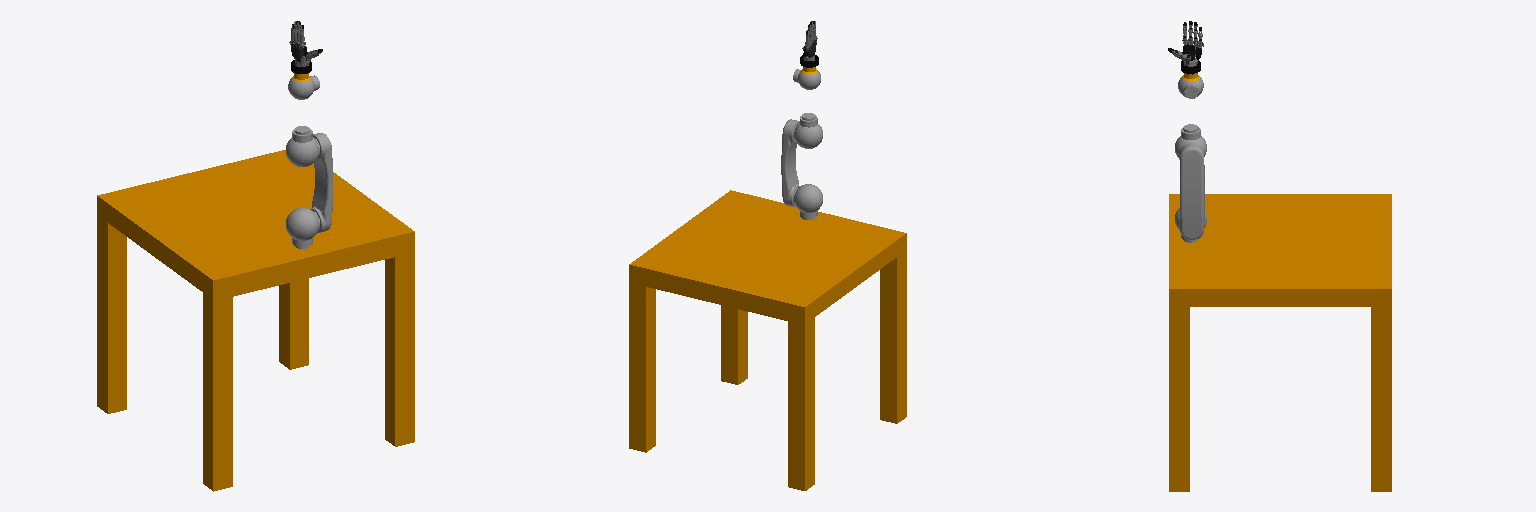
--- Render facts (derived) ---
Views: 3 orthographic renders of the robot side by side, from view 1: azimuth 30°, elevation 25°; view 2: azimuth 150°, elevation 25°; view 3: azimuth 270°, elevation 25°.
Model HoLLiE with 40 links and 39 joints (26 revolute, 12 prismatic, 1 fixed), rooted at base_link, posed every joint at zero.
Links seen in each view (by area): view 1: Table, hollie_real.001, hollie_real.000, hollie_real.002; view 2: Table, hollie_real.001, hollie_real.000, hollie_real.002; view 3: Table, hollie_real.001, hollie_real.002.
Boxes of the visible links, left/top/right/bottom form: Table: left=97, top=150, right=414, bottom=491; hollie_real.001: left=310, top=133, right=332, bottom=232; hollie_real.000: left=286, top=208, right=319, bottom=248; hollie_real.002: left=286, top=126, right=319, bottom=166; Table: left=629, top=190, right=906, bottom=490; hollie_real.001: left=781, top=119, right=800, bottom=206; hollie_real.000: left=793, top=184, right=822, bottom=219; hollie_real.002: left=793, top=113, right=822, bottom=148; Table: left=1169, top=194, right=1391, bottom=491; hollie_real.001: left=1179, top=143, right=1204, bottom=239; hollie_real.002: left=1175, top=124, right=1206, bottom=159.
Bounding box of the posed robot: 1 × 1 × 2.08 m (x, y, z).
29 mesh visuals loaded from 30 distinct referenced files (29 Collada DAE); not drawn: 1 (reference not matched to a file when rendering).

robot.urdf — HoLLiE:
<?xml version="1.0" encoding="utf-8"?>
<robot name="HoLLiE">
  <joint name="hollie_real_base_x_joint" type="fixed">
    <origin rpy="0.0 0.0 0.0" xyz="0.0 0.0 0.0"/>
    <parent link="base_link"/>
    <child link="Table"/>
    <axis xyz="1 0 0"/>
    <calibration falling="0.0" reference_position="0.0" rising="0.0"/>
    <dynamics damping="1.0"/>
    <limit effort="1.0" lower="1.0" upper="1.0" velocity="1.0"/>
  </joint>
  <joint name="hollie_real_left_arm_0_joint" type="prismatic">
    <origin rpy="0.0 0.0 1.623156189918518" xyz="0.0 -0.4000000059604645 1.0"/>
    <parent link="Table"/>
    <child link="hollie_real_left_arm_0_joint_link"/>
    <axis xyz="1 0 0"/>
    <calibration falling="0.0" reference_position="0.0" rising="0.0"/>
    <dynamics damping="1.0"/>
    <limit effort="1.0" lower="0.0" upper="0.0" velocity="1.0"/>
  </joint>
  <joint name="hollie_real_left_arm_1_joint" type="revolute">
    <origin rpy="0.0 0.0 0.0" xyz="0.0 0.0 0.10999999940395355"/>
    <parent link="hollie_real_left_arm_0_joint_link"/>
    <child link="hollie_real.000"/>
    <axis xyz="0 0 1"/>
    <calibration falling="0.0" reference_position="0.0" rising="0.0"/>
    <dynamics damping="1.0"/>
    <limit effort="1.0" lower="-1.3725518549658003e+20" upper="1.3725518549658003e+20" velocity="1.0"/>
  </joint>
  <joint name="hollie_real_left_arm_2_joint" type="revolute">
    <origin rpy="1.5707963705062866 0.0 0.0" xyz="0.0 0.0 0.0"/>
    <parent link="hollie_real.000"/>
    <child link="hollie_real.001"/>
    <axis xyz="0 0 1"/>
    <calibration falling="0.0" reference_position="0.0" rising="0.0"/>
    <dynamics damping="1.0"/>
    <limit effort="1.0" lower="-2864.7890625" upper="2864.7890625" velocity="1.0"/>
  </joint>
  <joint name="hollie_real_left_arm_3_joint" type="revolute">
    <origin rpy="0.0 -3.141592502593994 -0.0" xyz="0.0 0.3499999940395355 0.0"/>
    <parent link="hollie_real.001"/>
    <child link="hollie_real.002"/>
    <axis xyz="0 0 1"/>
    <calibration falling="0.0" reference_position="0.0" rising="0.0"/>
    <dynamics damping="1.0"/>
    <limit effort="1.0" lower="-1.3674871525645432e+20" upper="1.3674871525645432e+20" velocity="1.0"/>
  </joint>
  <joint name="hollie_real_left_arm_4_joint" type="revolute">
    <origin rpy="1.5707963705062866 0.0 3.141592502593994" xyz="0.0 0.0 0.0"/>
    <parent link="hollie_real.002"/>
    <child link="hollie_real.003"/>
    <axis xyz="0 0 1"/>
    <calibration falling="0.0" reference_position="0.0" rising="0.0"/>
    <dynamics damping="1.0"/>
    <limit effort="1.0" lower="-4.5218827465218064e+19" upper="4.5218827465218064e+19" velocity="1.0"/>
  </joint>
  <joint name="hollie_real_left_arm_5_joint" type="revolute">
    <origin rpy="1.5707963705062866 0.0 -3.141592502593994" xyz="0.0 0.0052629997953772545 0.3050000071525574"/>
    <parent link="hollie_real.003"/>
    <child link="hollie_real.004"/>
    <axis xyz="0 0 1"/>
    <calibration falling="0.0" reference_position="0.0" rising="0.0"/>
    <dynamics damping="1.0"/>
    <limit effort="1.0" lower="-1.3674871525645432e+20" upper="1.3674871525645432e+20" velocity="1.0"/>
  </joint>
  <joint name="hollie_real_left_arm_6_joint" type="revolute">
    <origin rpy="-1.5707963705062866 0.0 0.0" xyz="0.0 0.0 0.0"/>
    <parent link="hollie_real.004"/>
    <child link="hollie_real.005"/>
    <axis xyz="0 0 1"/>
    <calibration falling="0.0" reference_position="0.0" rising="0.0"/>
    <dynamics damping="1.0"/>
    <limit effort="1.0" lower="-4.5218827465218064e+19" upper="4.5218827465218064e+19" velocity="1.0"/>
  </joint>
  <joint name="hollie_real_left_hand_base_joint" type="prismatic">
    <origin rpy="0.0 0.0 0.0" xyz="0.0 0.0 0.10000000149011612"/>
    <parent link="hollie_real.005"/>
    <child link="hollie_real.006"/>
    <axis xyz="1 0 0"/>
    <calibration falling="0.0" reference_position="0.0" rising="0.0"/>
    <dynamics damping="1.0"/>
    <limit effort="1.0" lower="0.0" upper="0.0" velocity="1.0"/>
  </joint>
  <joint name="hollie_real_left_hand_f4" type="prismatic">
    <origin rpy="0.0 0.0 0.0" xyz="0.0 -0.013129999861121178 0.0"/>
    <parent link="hollie_real.006"/>
    <child link="hollie_real.007"/>
    <axis xyz="1 0 0"/>
    <calibration falling="0.0" reference_position="0.0" rising="0.0"/>
    <dynamics damping="1.0"/>
    <limit effort="1.0" lower="0.0" upper="0.0" velocity="1.0"/>
  </joint>
  <joint name="hollie_real_left_hand_Thumb_Opposition" type="revolute">
    <origin rpy="0.0 0.2617993950843811 1.5707963705062866" xyz="0.016899999231100082 0.026259999722242355 0.0"/>
    <parent link="hollie_real.007"/>
    <child link="hollie_real.008"/>
    <axis xyz="0 0 1"/>
    <calibration falling="0.0" reference_position="0.0" rising="0.0"/>
    <dynamics damping="1.0"/>
    <limit effort="1.0" lower="0.0" upper="2.158052153766183e+19" velocity="1.0"/>
  </joint>
  <joint name="hollie_real_left_hand_Thumb_Helper" type="prismatic">
    <origin rpy="-3.141592502593994 -1.570796251296997 0.0" xyz="0.0 0.0 0.04596000164747238"/>
    <parent link="hollie_real.008"/>
    <child link="hollie_real_left_hand_Thumb_Helper_link"/>
    <axis xyz="1 0 0"/>
    <calibration falling="0.0" reference_position="0.0" rising="0.0"/>
    <dynamics damping="1.0"/>
    <limit effort="1.0" lower="0.0" upper="0.0" velocity="1.0"/>
  </joint>
  <joint name="hollie_real_left_hand_Thumb_Flexion" type="revolute">
    <origin rpy="0.0 0.0 0.9773843884468079" xyz="0.0 0.0 0.0"/>
    <parent link="hollie_real_left_hand_Thumb_Helper_link"/>
    <child link="hollie_real.009"/>
    <axis xyz="0 0 1"/>
    <calibration falling="0.0" reference_position="0.0" rising="0.0"/>
    <dynamics damping="1.0"/>
    <limit effort="1.0" lower="0.0" upper="2.1198236737846903e+19" velocity="1.0"/>
  </joint>
  <joint name="hollie_real_left_hand_j3" type="revolute">
    <origin rpy="0.0 0.0 0.0" xyz="0.048500001430511475 0.0 0.0"/>
    <parent link="hollie_real.009"/>
    <child link="hollie_real.010"/>
    <axis xyz="0 0 1"/>
    <calibration falling="0.0" reference_position="0.0" rising="0.0"/>
    <dynamics damping="1.0"/>
    <limit effort="1.0" lower="0.0" upper="2.151848049455294e+19" velocity="1.0"/>
  </joint>
  <joint name="hollie_real_left_hand_j4" type="revolute">
    <origin rpy="0.0 0.0 0.0" xyz="0.029999999329447746 0.0 0.0"/>
    <parent link="hollie_real.010"/>
    <child link="hollie_real.011"/>
    <axis xyz="0 0 1"/>
    <calibration falling="0.0" reference_position="0.0" rising="0.0"/>
    <dynamics damping="1.0"/>
    <limit effort="1.0" lower="0.0" upper="3.0713850169271517e+19" velocity="1.0"/>
  </joint>
  <joint name="hollie_real_left_hand_f1" type="prismatic">
    <origin rpy="0.0 0.0 0.0" xyz="0.0 0.0 0.0"/>
    <parent link="hollie_real.007"/>
    <child link="hollie_real_left_hand_f1_link"/>
    <axis xyz="1 0 0"/>
    <calibration falling="0.0" reference_position="0.0" rising="0.0"/>
    <dynamics damping="1.0"/>
    <limit effort="1.0" lower="0.0" upper="0.0" velocity="1.0"/>
  </joint>
  <joint name="hollie_real_left_hand_f2" type="prismatic">
    <origin rpy="0.0 0.0 0.0" xyz="0.0 0.0 0.0"/>
    <parent link="hollie_real_left_hand_f1_link"/>
    <child link="hollie_real_left_hand_f2_link"/>
    <axis xyz="1 0 0"/>
    <calibration falling="0.0" reference_position="0.0" rising="0.0"/>
    <dynamics damping="1.0"/>
    <limit effort="1.0" lower="0.0" upper="0.0" velocity="1.0"/>
  </joint>
  <joint name="hollie_real_left_hand_f3" type="prismatic">
    <origin rpy="0.0 0.0 0.0" xyz="0.0 0.0 0.0"/>
    <parent link="hollie_real_left_hand_f2_link"/>
    <child link="hollie_real_left_hand_f3_link"/>
    <axis xyz="1 0 0"/>
    <calibration falling="0.0" reference_position="0.0" rising="0.0"/>
    <dynamics damping="1.0"/>
    <limit effort="1.0" lower="0.0" upper="0.0" velocity="1.0"/>
  </joint>
  <joint name="hollie_real_left_hand_index_spread" type="revolute">
    <origin rpy="1.5707963705062866 -1.570796251296997 0.0" xyz="0.02500000037252903 0.0 0.10999999940395355"/>
    <parent link="hollie_real_left_hand_f3_link"/>
    <child link="hollie_real.012"/>
    <axis xyz="0 0 1"/>
    <calibration falling="0.0" reference_position="0.0" rising="0.0"/>
    <dynamics damping="1.0"/>
    <limit effort="1.0" lower="0.0" upper="6.29852322265668e+18" velocity="1.0"/>
  </joint>
  <joint name="hollie_real_left_hand_Index_Finger_Proximal" type="revolute">
    <origin rpy="-1.5707963705062866 0.0 0.0" xyz="0.0 0.0 0.0"/>
    <parent link="hollie_real.012"/>
    <child link="hollie_real.013"/>
    <axis xyz="0 0 1"/>
    <calibration falling="0.0" reference_position="0.0" rising="0.0"/>
    <dynamics damping="1.0"/>
    <limit effort="1.0" lower="0.0" upper="1.744289215657332e+19" velocity="1.0"/>
  </joint>
  <joint name="hollie_real_left_hand_Index_Finger_Distal" type="revolute">
    <origin rpy="0.0 0.0 0.0" xyz="0.0480399988591671 0.0 0.0"/>
    <parent link="hollie_real.013"/>
    <child link="hollie_real.014"/>
    <axis xyz="0 0 1"/>
    <calibration falling="0.0" reference_position="0.0" rising="0.0"/>
    <dynamics damping="1.0"/>
    <limit effort="1.0" lower="0.0" upper="2.914102297499376e+19" velocity="1.0"/>
  </joint>
  <joint name="hollie_real_left_hand_j14" type="revolute">
    <origin rpy="0.0 0.0 0.0" xyz="0.026000000536441803 0.0 0.0"/>
    <parent link="hollie_real.014"/>
    <child link="hollie_real.015"/>
    <axis xyz="0 0 1"/>
    <calibration falling="0.0" reference_position="0.0" rising="0.0"/>
    <dynamics damping="1.0"/>
    <limit effort="1.0" lower="0.0" upper="3.0451713403070185e+19" velocity="1.0"/>
  </joint>
  <joint name="hollie_real_left_hand_middle_spread_dummy" type="prismatic">
    <origin rpy="1.5707963705062866 -1.570796251296997 0.0" xyz="0.0 0.0 0.10999999940395355"/>
    <parent link="hollie_real_left_hand_f1_link"/>
    <child link="hollie_real.016"/>
    <axis xyz="1 0 0"/>
    <calibration falling="0.0" reference_position="0.0" rising="0.0"/>
    <dynamics damping="1.0"/>
    <limit effort="1.0" lower="0.0" upper="0.0" velocity="1.0"/>
  </joint>
  <joint name="hollie_real_left_hand_Middle_Finger_Proximal" type="revolute">
    <origin rpy="-1.5707963705062866 0.0 0.0" xyz="0.0 0.0 0.0"/>
    <parent link="hollie_real.016"/>
    <child link="hollie_real.017"/>
    <axis xyz="0 0 1"/>
    <calibration falling="0.0" reference_position="0.0" rising="0.0"/>
    <dynamics damping="1.0"/>
    <limit effort="1.0" lower="0.0" upper="1.744289215657332e+19" velocity="1.0"/>
  </joint>
  <joint name="hollie_real_left_hand_Middle_Finger_Distal" type="revolute">
    <origin rpy="0.0 0.0 0.0" xyz="0.050039999186992645 0.0 0.0"/>
    <parent link="hollie_real.017"/>
    <child link="hollie_real.018"/>
    <axis xyz="0 0 1"/>
    <calibration falling="0.0" reference_position="0.0" rising="0.0"/>
    <dynamics damping="1.0"/>
    <limit effort="1.0" lower="0.0" upper="2.914102297499376e+19" velocity="1.0"/>
  </joint>
  <joint name="hollie_real_left_hand_j15" type="revolute">
    <origin rpy="0.0 0.0 0.0" xyz="0.03200000151991844 0.0 0.0"/>
    <parent link="hollie_real.018"/>
    <child link="hollie_real.019"/>
    <axis xyz="0 0 1"/>
    <calibration falling="0.0" reference_position="0.0" rising="0.0"/>
    <dynamics damping="1.0"/>
    <limit effort="1.0" lower="0.0" upper="2.914102297499376e+19" velocity="1.0"/>
  </joint>
  <joint name="hollie_real_left_hand_j5" type="revolute">
    <origin rpy="0.0 0.0 0.0" xyz="-0.018400000408291817 0.006000000052154064 0.03750000149011612"/>
    <parent link="hollie_real.007"/>
    <child link="hollie_real.020"/>
    <axis xyz="0 0 1"/>
    <calibration falling="0.0" reference_position="0.0" rising="0.0"/>
    <dynamics damping="1.0"/>
    <limit effort="1.0" lower="0.0" upper="2.157964632640612e+19" velocity="1.0"/>
  </joint>
  <joint name="hollie_real_left_hand_f5" type="prismatic">
    <origin rpy="0.0 0.0 0.0" xyz="0.0 -0.006000000052154064 0.0"/>
    <parent link="hollie_real.020"/>
    <child link="hollie_real_left_hand_f5_link"/>
    <axis xyz="1 0 0"/>
    <calibration falling="0.0" reference_position="0.0" rising="0.0"/>
    <dynamics damping="1.0"/>
    <limit effort="1.0" lower="0.0" upper="0.0" velocity="1.0"/>
  </joint>
  <joint name="hollie_real_left_hand_f6" type="prismatic">
    <origin rpy="0.0 0.0 0.0" xyz="0.0 0.0 0.0"/>
    <parent link="hollie_real_left_hand_f5_link"/>
    <child link="hollie_real_left_hand_f6_link"/>
    <axis xyz="1 0 0"/>
    <calibration falling="0.0" reference_position="0.0" rising="0.0"/>
    <dynamics damping="1.0"/>
    <limit effort="1.0" lower="0.0" upper="0.0" velocity="1.0"/>
  </joint>
  <joint name="hollie_real_left_hand_f7" type="prismatic">
    <origin rpy="0.0 0.0 0.0" xyz="0.0 0.0 0.0"/>
    <parent link="hollie_real_left_hand_f6_link"/>
    <child link="hollie_real_left_hand_f7_link"/>
    <axis xyz="1 0 0"/>
    <calibration falling="0.0" reference_position="0.0" rising="0.0"/>
    <dynamics damping="1.0"/>
    <limit effort="1.0" lower="0.0" upper="0.0" velocity="1.0"/>
  </joint>
  <joint name="hollie_real_left_hand_Finger_Spread" type="revolute">
    <origin rpy="-1.5707963705062866 -1.570796251296997 0.0" xyz="-0.02535500004887581 0.0 0.0560000017285347"/>
    <parent link="hollie_real_left_hand_f7_link"/>
    <child link="hollie_real.021"/>
    <axis xyz="0 0 1"/>
    <calibration falling="0.0" reference_position="0.0" rising="0.0"/>
    <dynamics damping="1.0"/>
    <limit effort="1.0" lower="0.0" upper="1.2733359498878517e+19" velocity="1.0"/>
  </joint>
  <joint name="hollie_real_left_hand_Pinky" type="revolute">
    <origin rpy="1.5707963705062866 0.0 0.0" xyz="0.0 0.0 0.0"/>
    <parent link="hollie_real.021"/>
    <child link="hollie_real.022"/>
    <axis xyz="0 0 1"/>
    <calibration falling="0.0" reference_position="0.0" rising="0.0"/>
    <dynamics damping="1.0"/>
    <limit effort="1.0" lower="0.0" upper="2.144617660991039e+19" velocity="1.0"/>
  </joint>
  <joint name="hollie_real_left_hand_j13" type="revolute">
    <origin rpy="0.0 0.0 0.0" xyz="0.04453999921679497 0.0 0.0"/>
    <parent link="hollie_real.022"/>
    <child link="hollie_real.023"/>
    <axis xyz="0 0 1"/>
    <calibration falling="0.0" reference_position="0.0" rising="0.0"/>
    <dynamics damping="1.0"/>
    <limit effort="1.0" lower="0.0" upper="2.914102297499376e+19" velocity="1.0"/>
  </joint>
  <joint name="hollie_real_left_hand_j17" type="revolute">
    <origin rpy="0.0 0.0 0.0" xyz="0.02199999988079071 0.0 0.0"/>
    <parent link="hollie_real.023"/>
    <child link="hollie_real.024"/>
    <axis xyz="0 0 1"/>
    <calibration falling="0.0" reference_position="0.0" rising="0.0"/>
    <dynamics damping="1.0"/>
    <limit effort="1.0" lower="0.0" upper="3.0519430125201654e+19" velocity="1.0"/>
  </joint>
  <joint name="hollie_real_left_hand_f8" type="prismatic">
    <origin rpy="0.0 0.0 0.0" xyz="0.0 0.0 0.0"/>
    <parent link="hollie_real_left_hand_f6_link"/>
    <child link="hollie_real_left_hand_f8_link"/>
    <axis xyz="1 0 0"/>
    <calibration falling="0.0" reference_position="0.0" rising="0.0"/>
    <dynamics damping="1.0"/>
    <limit effort="1.0" lower="0.0" upper="0.0" velocity="1.0"/>
  </joint>
  <joint name="hollie_real_left_hand_ring_spread" type="revolute">
    <origin rpy="-1.5707963705062866 -1.570796251296997 0.0" xyz="-0.003855000017210841 0.0 0.06549999862909317"/>
    <parent link="hollie_real_left_hand_f8_link"/>
    <child link="hollie_real.025"/>
    <axis xyz="0 0 1"/>
    <calibration falling="0.0" reference_position="0.0" rising="0.0"/>
    <dynamics damping="1.0"/>
    <limit effort="1.0" lower="0.0" upper="6.29852322265668e+18" velocity="1.0"/>
  </joint>
  <joint name="hollie_real_left_hand_Ring_Finger" type="revolute">
    <origin rpy="1.5707963705062866 0.0 0.0" xyz="0.0 0.0 0.0"/>
    <parent link="hollie_real.025"/>
    <child link="hollie_real.026"/>
    <axis xyz="0 0 1"/>
    <calibration falling="0.0" reference_position="0.0" rising="0.0"/>
    <dynamics damping="1.0"/>
    <limit effort="1.0" lower="0.0" upper="2.144617660991039e+19" velocity="1.0"/>
  </joint>
  <joint name="hollie_real_left_hand_j12" type="revolute">
    <origin rpy="0.0 0.0 0.0" xyz="0.050039999186992645 0.0 0.0"/>
    <parent link="hollie_real.026"/>
    <child link="hollie_real.027"/>
    <axis xyz="0 0 1"/>
    <calibration falling="0.0" reference_position="0.0" rising="0.0"/>
    <dynamics damping="1.0"/>
    <limit effort="1.0" lower="0.0" upper="2.914102297499376e+19" velocity="1.0"/>
  </joint>
  <joint name="hollie_real_left_hand_j16" type="revolute">
    <origin rpy="0.0 0.0 0.0" xyz="0.03200000151991844 0.0 0.0"/>
    <parent link="hollie_real.027"/>
    <child link="hollie_real_lef"/>
    <axis xyz="0 0 1"/>
    <calibration falling="0.0" reference_position="0.0" rising="0.0"/>
    <dynamics damping="1.0"/>
    <limit effort="1.0" lower="0.0" upper="3.0473556301067583e+19" velocity="1.0"/>
  </joint>
  <link name="base_link"/>
  <link name="Table">
    <inertial>
      <origin rpy="0 0 0" xyz="0 0 0"/>
      <mass value="1.0"/>
      <inertia ixx="1.0" ixy="0.0" ixz="0.0" iyy="1.0" iyz="0.0" izz="1.0"/>
    </inertial>
    <visual>
      <origin rpy="0.0 0.0 0.0" xyz="0.0 0.0 0.5"/>
      <geometry>
        <mesh filename="model://arm_robot-mit_VISCOL/meshes/VIS_Table.dae"/>
      </geometry>
    </visual>
    <collision>
      <origin xyz="0.0 0.0 0.5"/>
      <geometry>
        <mesh filename="model://arm_robot-mit_VISCOL/collisions/COL_Table.000.dae"/>
      </geometry>
    </collision>
    <collision>
      <origin xyz="0.0 0.0 0.5"/>
      <geometry>
        <mesh filename="model://arm_robot-mit_VISCOL/collisions/COL_Table.001.dae"/>
      </geometry>
    </collision>
    <collision>
      <origin xyz="0.0 0.0 0.5"/>
      <geometry>
        <mesh filename="model://arm_robot-mit_VISCOL/collisions/COL_Table.dae"/>
      </geometry>
    </collision>
  </link>
  <link name="hollie_real_left_arm_0_joint_link">
    <inertial>
      <origin rpy="0 0 0" xyz="0 0 0"/>
      <mass value="1.0"/>
      <inertia ixx="1.0" ixy="0.0" ixz="0.0" iyy="1.0" iyz="0.0" izz="1.0"/>
    </inertial>
  </link>
  <link name="hollie_real.000">
    <inertial>
      <origin rpy="0 0 0" xyz="0 0 0"/>
      <mass value="1.0"/>
      <inertia ixx="1.0" ixy="0.0" ixz="0.0" iyy="1.0" iyz="0.0" izz="1.0"/>
    </inertial>
    <visual>
      <origin rpy="-2.1012533579778392e-07 1.1580802095068066e-08 -1.564621925354004e-07" xyz="3.510419332997117e-08 9.930301558824794e-08 1.1920928955078125e-06"/>
      <geometry>
        <mesh filename="model://arm_robot-mit_VISCOL/meshes/VIS_hollie_real.000.dae"/>
      </geometry>
    </visual>
    <collision>
      <origin xyz="3.510419332997117e-08 9.930301558824794e-08 1.1920928955078125e-06"/>
      <geometry>
        <mesh filename="model://arm_robot-mit_VISCOL/collisions/COL_hollie_real.000.dae"/>
      </geometry>
    </collision>
  </link>
  <link name="hollie_real.001">
    <inertial>
      <origin rpy="0 0 0" xyz="0 0 0"/>
      <mass value="1.0"/>
      <inertia ixx="1.0" ixy="0.0" ixz="0.0" iyy="1.0" iyz="0.0" izz="1.0"/>
    </inertial>
    <visual>
      <origin rpy="-7.549789415861596e-08 4.842877388000488e-08 5.42986633433884e-08" xyz="-2.5418456672809953e-08 1.4319995216283132e-06 -4.747191084675251e-09"/>
      <geometry>
        <mesh filename="model://arm_robot-mit_VISCOL/meshes/VIS_hollie_real.001.dae"/>
      </geometry>
    </visual>
    <collision>
      <origin xyz="-2.5418456672809953e-08 1.4319995216283132e-06 -4.747191084675251e-09"/>
      <geometry>
        <mesh filename="model://arm_robot-mit_VISCOL/collisions/COL_hollie_real.001.dae"/>
      </geometry>
    </collision>
  </link>
  <link name="hollie_real.002">
    <inertial>
      <origin rpy="0 0 0" xyz="0 0 0"/>
      <mass value="1.0"/>
      <inertia ixx="1.0" ixy="0.0" ixz="0.0" iyy="1.0" iyz="0.0" izz="1.0"/>
    </inertial>
    <visual>
      <origin rpy="4.371131723246435e-08 4.0978193283081055e-07 -1.734670860287224e-07" xyz="-1.555379611772878e-07 9.551623634251882e-07 1.1435902891321348e-08"/>
      <geometry>
        <mesh filename="model://arm_robot-mit_VISCOL/meshes/VIS_hollie_real.002.dae"/>
      </geometry>
    </visual>
    <collision>
      <origin xyz="-1.555379611772878e-07 9.551623634251882e-07 1.1435902891321348e-08"/>
      <geometry>
        <mesh filename="model://arm_robot-mit_VISCOL/collisions/COL_hollie_real.002.dae"/>
      </geometry>
    </collision>
  </link>
  <link name="hollie_real.003">
    <inertial>
      <origin rpy="0 0 0" xyz="0 0 0"/>
      <mass value="1.0"/>
      <inertia ixx="1.0" ixy="0.0" ixz="0.0" iyy="1.0" iyz="0.0" izz="1.0"/>
    </inertial>
    <visual>
      <origin rpy="1.5478514114874997e-07 3.0945024320772063e-09 -2.123415470123291e-07" xyz="5.108404366183095e-08 -1.4634674982971774e-07 1.7472538615947997e-07"/>
      <geometry>
        <mesh filename="model://arm_robot-mit_VISCOL/meshes/VIS_hollie_real.003.dae"/>
      </geometry>
    </visual>
    <collision>
      <origin xyz="5.108404366183095e-08 -1.4634674982971774e-07 1.7472538615947997e-07"/>
      <geometry>
        <mesh filename="model://arm_robot-mit_VISCOL/collisions/COL_hollie_real.003.dae"/>
      </geometry>
    </collision>
  </link>
  <link name="hollie_real.004">
    <inertial>
      <origin rpy="0 0 0" xyz="0 0 0"/>
      <mass value="1.0"/>
      <inertia ixx="1.0" ixy="0.0" ixz="0.0" iyy="1.0" iyz="0.0" izz="1.0"/>
    </inertial>
    <visual>
      <origin rpy="1.47422338159231e-06 -1.695007085800171e-06 -1.440530041918464e-07" xyz="-1.878330238014314e-07 6.525791604872211e-07 -6.23986053938097e-08"/>
      <geometry>
        <mesh filename="model://arm_robot-mit_VISCOL/meshes/VIS_hollie_real.004.dae"/>
      </geometry>
    </visual>
    <collision>
      <origin xyz="-1.878330238014314e-07 6.525791604872211e-07 -6.23986053938097e-08"/>
      <geometry>
        <mesh filename="model://arm_robot-mit_VISCOL/collisions/COL_hollie_real.004.dae"/>
      </geometry>
    </collision>
  </link>
  <link name="hollie_real.005">
    <inertial>
      <origin rpy="0 0 0" xyz="0 0 0"/>
      <mass value="1.0"/>
      <inertia ixx="1.0" ixy="0.0" ixz="0.0" iyy="1.0" iyz="0.0" izz="1.0"/>
    </inertial>
    <visual>
      <origin rpy="1.288048849801271e-07 -3.810884940946835e-11 4.544854164123535e-07" xyz="-4.5222421363178e-08 3.3061951398849487e-07 1.3590478147307294e-06"/>
      <geometry>
        <mesh filename="model://arm_robot-mit_VISCOL/meshes/VIS_hollie_real.005.dae"/>
      </geometry>
    </visual>
    <collision>
      <origin xyz="-4.5222421363178e-08 3.3061951398849487e-07 1.3590478147307294e-06"/>
      <geometry>
        <mesh filename="model://arm_robot-mit_VISCOL/collisions/COL_hollie_real.005.dae"/>
      </geometry>
    </collision>
  </link>
  <link name="hollie_real.006">
    <inertial>
      <origin rpy="0 0 0" xyz="0 0 0"/>
      <mass value="1.0"/>
      <inertia ixx="1.0" ixy="0.0" ixz="0.0" iyy="1.0" iyz="0.0" izz="1.0"/>
    </inertial>
    <visual>
      <origin rpy="-5.1910255649545434e-08 -7.895630815824006e-10 2.1606683731079102e-07" xyz="-1.6857632090250263e-07 9.899958968162537e-07 -0.03199810907244682"/>
      <geometry>
        <mesh filename="model://arm_robot-mit_VISCOL/meshes/VIS_hollie_real.006.dae"/>
      </geometry>
    </visual>
    <collision>
      <origin xyz="-1.6857632090250263e-07 9.899958968162537e-07 -0.03199810907244682"/>
      <geometry>
        <mesh filename="model://arm_robot-mit_VISCOL/collisions/COL_hollie_real.006.dae"/>
      </geometry>
    </collision>
  </link>
  <link name="hollie_real.007">
    <inertial>
      <origin rpy="0 0 0" xyz="0 0 0"/>
      <mass value="1.0"/>
      <inertia ixx="1.0" ixy="0.0" ixz="0.0" iyy="1.0" iyz="0.0" izz="1.0"/>
    </inertial>
    <visual>
      <origin rpy="3.141592502593994 2.2907406105332484e-07 -6.183981895446777e-07" xyz="-6.609359104459145e-08 0.013130230829119682 2.0743034383485792e-06"/>
      <geometry>
        <mesh filename="model://arm_robot-mit_VISCOL/meshes/VIS_hollie_real.007.dae"/>
      </geometry>
    </visual>
    <collision>
      <origin xyz="-6.609359104459145e-08 0.013130230829119682 2.0743034383485792e-06"/>
      <geometry>
        <mesh filename="model://arm_robot-mit_VISCOL/collisions/COL_hollie_real.007.dae"/>
      </geometry>
    </collision>
  </link>
  <link name="hollie_real.008">
    <inertial>
      <origin rpy="0 0 0" xyz="0 0 0"/>
      <mass value="1.0"/>
      <inertia ixx="1.0" ixy="0.0" ixz="0.0" iyy="1.0" iyz="0.0" izz="1.0"/>
    </inertial>
    <visual>
      <origin rpy="-2.5923845896613784e-06 3.141589879989624 -3.5556709576667345e-07" xyz="2.5890767574310303e-07 -7.391362260023016e-07 0.024418124929070473"/>
      <geometry>
        <mesh filename="model://arm_robot-mit_VISCOL/meshes/VIS_hollie_real.008.dae"/>
      </geometry>
    </visual>
    <collision>
      <origin xyz="2.5890767574310303e-07 -7.391362260023016e-07 0.024418124929070473"/>
      <geometry>
        <mesh filename="model://arm_robot-mit_VISCOL/collisions/COL_hollie_real.008.dae"/>
      </geometry>
    </collision>
  </link>
  <link name="hollie_real_left_hand_Thumb_Helper_link">
    <inertial>
      <origin rpy="0 0 0" xyz="0 0 0"/>
      <mass value="1.0"/>
      <inertia ixx="1.0" ixy="0.0" ixz="0.0" iyy="1.0" iyz="0.0" izz="1.0"/>
    </inertial>
  </link>
  <link name="hollie_real.009">
    <inertial>
      <origin rpy="0 0 0" xyz="0 0 0"/>
      <mass value="1.0"/>
      <inertia ixx="1.0" ixy="0.0" ixz="0.0" iyy="1.0" iyz="0.0" izz="1.0"/>
    </inertial>
    <visual>
      <origin rpy="-3.1415915489196777 3.2410028438789595e-07 1.0617078487484832e-06" xyz="1.1818483471870422e-06 1.3248063623905182e-07 -2.5331974029541016e-07"/>
      <geometry>
        <mesh filename="model://arm_robot-mit_VISCOL/meshes/VIS_hollie_real.009.dae"/>
      </geometry>
    </visual>
    <collision>
      <origin xyz="1.1818483471870422e-06 1.3248063623905182e-07 -2.5331974029541016e-07"/>
      <geometry>
        <mesh filename="model://arm_robot-mit_VISCOL/collisions/COL_hollie_real.009.dae"/>
      </geometry>
    </collision>
  </link>
  <link name="hollie_real.010">
    <inertial>
      <origin rpy="0 0 0" xyz="0 0 0"/>
      <mass value="1.0"/>
      <inertia ixx="1.0" ixy="0.0" ixz="0.0" iyy="1.0" iyz="0.0" izz="1.0"/>
    </inertial>
    <visual>
      <origin rpy="-3.1415927410125732 -1.1175873559921001e-08 1.9147996681567747e-06" xyz="-6.495974957942963e-07 -1.0239891707897186e-06 4.78699803352356e-07"/>
      <geometry>
        <mesh filename="model://arm_robot-mit_VISCOL/meshes/VIS_hollie_real.010.dae"/>
      </geometry>
    </visual>
    <collision>
      <origin xyz="-6.495974957942963e-07 -1.0239891707897186e-06 4.78699803352356e-07"/>
      <geometry>
        <mesh filename="model://arm_robot-mit_VISCOL/collisions/COL_hollie_real.010.dae"/>
      </geometry>
    </collision>
  </link>
  <link name="hollie_real.011">
    <inertial>
      <origin rpy="0 0 0" xyz="0 0 0"/>
      <mass value="1.0"/>
      <inertia ixx="1.0" ixy="0.0" ixz="0.0" iyy="1.0" iyz="0.0" izz="1.0"/>
    </inertial>
    <visual>
      <origin rpy="3.141592264175415 4.842878453814592e-08 1.6726557987567503e-06" xyz="-7.497146725654602e-08 -2.477318048477173e-07 -7.450580596923828e-08"/>
      <geometry>
        <mesh filename="model://arm_robot-mit_VISCOL/meshes/VIS_hollie_real.011.dae"/>
      </geometry>
    </visual>
    <collision>
      <origin xyz="-7.497146725654602e-08 -2.477318048477173e-07 -7.450580596923828e-08"/>
      <geometry>
        <mesh filename="model://arm_robot-mit_VISCOL/collisions/COL_hollie_real.011.dae"/>
      </geometry>
    </collision>
  </link>
  <link name="hollie_real_left_hand_f1_link">
    <inertial>
      <origin rpy="0 0 0" xyz="0 0 0"/>
      <mass value="1.0"/>
      <inertia ixx="1.0" ixy="0.0" ixz="0.0" iyy="1.0" iyz="0.0" izz="1.0"/>
    </inertial>
  </link>
  <link name="hollie_real_left_hand_f2_link">
    <inertial>
      <origin rpy="0 0 0" xyz="0 0 0"/>
      <mass value="1.0"/>
      <inertia ixx="1.0" ixy="0.0" ixz="0.0" iyy="1.0" iyz="0.0" izz="1.0"/>
    </inertial>
  </link>
  <link name="hollie_real_left_hand_f3_link">
    <inertial>
      <origin rpy="0 0 0" xyz="0 0 0"/>
      <mass value="1.0"/>
      <inertia ixx="1.0" ixy="0.0" ixz="0.0" iyy="1.0" iyz="0.0" izz="1.0"/>
    </inertial>
  </link>
  <link name="hollie_real.012">
    <inertial>
      <origin rpy="0 0 0" xyz="0 0 0"/>
      <mass value="1.0"/>
      <inertia ixx="1.0" ixy="0.0" ixz="0.0" iyy="1.0" iyz="0.0" izz="1.0"/>
    </inertial>
    <visual>
      <origin rpy="3.725292518907963e-09 4.752096458560118e-07 9.030221548300688e-08" xyz="2.837136321431899e-07 -1.80778812364224e-07 0.013210158795118332"/>
      <geometry>
        <mesh filename="model://arm_robot-mit_VISCOL/meshes/VIS_hollie_real.012.dae"/>
      </geometry>
    </visual>
    <collision>
      <origin xyz="2.837136321431899e-07 -1.80778812364224e-07 0.013210158795118332"/>
      <geometry>
        <mesh filename="model://arm_robot-mit_VISCOL/collisions/COL_hollie_real.012.dae"/>
      </geometry>
    </collision>
  </link>
  <link name="hollie_real.013">
    <inertial>
      <origin rpy="0 0 0" xyz="0 0 0"/>
      <mass value="1.0"/>
      <inertia ixx="1.0" ixy="0.0" ixz="0.0" iyy="1.0" iyz="0.0" izz="1.0"/>
    </inertial>
    <visual>
      <origin rpy="-2.771615982055664e-06 -6.431557864061688e-08 7.523104983420126e-08" xyz="-5.685739665750589e-07 4.896907057627686e-08 1.0221791058029339e-07"/>
      <geometry>
        <mesh filename="model://arm_robot-mit_VISCOL/meshes/VIS_hollie_real.013.dae"/>
      </geometry>
    </visual>
    <collision>
      <origin xyz="-5.685739665750589e-07 4.896907057627686e-08 1.0221791058029339e-07"/>
      <geometry>
        <mesh filename="model://arm_robot-mit_VISCOL/collisions/COL_hollie_real.013.dae"/>
      </geometry>
    </collision>
  </link>
  <link name="hollie_real.014">
    <inertial>
      <origin rpy="0 0 0" xyz="0 0 0"/>
      <mass value="1.0"/>
      <inertia ixx="1.0" ixy="0.0" ixz="0.0" iyy="1.0" iyz="0.0" izz="1.0"/>
    </inertial>
    <visual>
      <origin rpy="-2.4065375328063965e-06 4.623149152394035e-08 7.506766763754058e-08" xyz="-2.5232056444224327e-08 -3.5639777706819586e-07 4.701361433490092e-08"/>
      <geometry>
        <mesh filename="model://arm_robot-mit_VISCOL/meshes/VIS_hollie_real.014.dae"/>
      </geometry>
    </visual>
    <collision>
      <origin xyz="-2.5232056444224327e-08 -3.5639777706819586e-07 4.701361433490092e-08"/>
      <geometry>
        <mesh filename="model://arm_robot-mit_VISCOL/collisions/COL_hollie_real.014.dae"/>
      </geometry>
    </collision>
  </link>
  <link name="hollie_real.015">
    <inertial>
      <origin rpy="0 0 0" xyz="0 0 0"/>
      <mass value="1.0"/>
      <inertia ixx="1.0" ixy="0.0" ixz="0.0" iyy="1.0" iyz="0.0" izz="1.0"/>
    </inertial>
    <visual>
      <origin rpy="-2.771615982055664e-06 3.999253905817568e-08 -4.397823971657999e-08" xyz="-2.6365052008259227e-07 1.0484615131645114e-07 -3.668480701435328e-07"/>
      <geometry>
        <mesh filename="model://arm_robot-mit_VISCOL/meshes/VIS_hollie_real.015.dae"/>
      </geometry>
    </visual>
    <collision>
      <origin xyz="-2.6365052008259227e-07 1.0484615131645114e-07 -3.668480701435328e-07"/>
      <geometry>
        <mesh filename="model://arm_robot-mit_VISCOL/collisions/COL_hollie_real.015.dae"/>
      </geometry>
    </collision>
  </link>
  <link name="hollie_real.016">
    <inertial>
      <origin rpy="0 0 0" xyz="0 0 0"/>
      <mass value="1.0"/>
      <inertia ixx="1.0" ixy="0.0" ixz="0.0" iyy="1.0" iyz="0.0" izz="1.0"/>
    </inertial>
    <visual>
      <origin rpy="1.1920928955078125e-07 3.4871314369411266e-07 9.654112176349372e-08" xyz="-8.036762011442988e-08 -9.822284710025997e-07 0.013210076838731766"/>
      <geometry>
        <mesh filename="model://arm_robot-mit_VISCOL/meshes/VIS_hollie_real.016.dae"/>
      </geometry>
    </visual>
    <collision>
      <origin xyz="-8.036762011442988e-08 -9.822284710025997e-07 0.013210076838731766"/>
      <geometry>
        <mesh filename="model://arm_robot-mit_VISCOL/collisions/COL_hollie_real.016.dae"/>
      </geometry>
    </collision>
  </link>
  <link name="hollie_real.017">
    <inertial>
      <origin rpy="0 0 0" xyz="0 0 0"/>
      <mass value="1.0"/>
      <inertia ixx="1.0" ixy="0.0" ixz="0.0" iyy="1.0" iyz="0.0" izz="1.0"/>
    </inertial>
    <visual>
      <origin rpy="5.811452865600586e-07 -5.807660130585646e-08 1.942769642937492e-07" xyz="-9.406928569433148e-08 1.1807316013801028e-07 -6.557622214131698e-07"/>
      <geometry>
        <mesh filename="model://arm_robot-mit_VISCOL/meshes/VIS_hollie_real.017.dae"/>
      </geometry>
    </visual>
    <collision>
      <origin xyz="-9.406928569433148e-08 1.1807316013801028e-07 -6.557622214131698e-07"/>
      <geometry>
        <mesh filename="model://arm_robot-mit_VISCOL/collisions/COL_hollie_real.017.dae"/>
      </geometry>
    </collision>
  </link>
  <link name="hollie_real.018">
    <inertial>
      <origin rpy="0 0 0" xyz="0 0 0"/>
      <mass value="1.0"/>
      <inertia ixx="1.0" ixy="0.0" ixz="0.0" iyy="1.0" iyz="0.0" izz="1.0"/>
    </inertial>
    <visual>
      <origin rpy="2.2351743211856956e-07 4.623152349836346e-08 7.506766763754058e-08" xyz="-1.4552476841345197e-06 6.338601110655873e-07 -4.306432970224705e-07"/>
      <geometry>
        <mesh filename="model://arm_robot-mit_VISCOL/meshes/VIS_hollie_real.018.dae"/>
      </geometry>
    </visual>
    <collision>
      <origin xyz="-1.4552476841345197e-06 6.338601110655873e-07 -4.306432970224705e-07"/>
      <geometry>
        <mesh filename="model://arm_robot-mit_VISCOL/collisions/COL_hollie_real.018.dae"/>
      </geometry>
    </collision>
  </link>
  <link name="hollie_real.019">
    <inertial>
      <origin rpy="0 0 0" xyz="0 0 0"/>
      <mass value="1.0"/>
      <inertia ixx="1.0" ixy="0.0" ixz="0.0" iyy="1.0" iyz="0.0" izz="1.0"/>
    </inertial>
    <visual>
      <origin rpy="-4.954636096954346e-07 3.375359725055205e-08 -1.6302415417612792e-07" xyz="-2.4736436898820102e-08 -1.6200681329792133e-07 -7.488844744329981e-07"/>
      <geometry>
        <mesh filename="model://arm_robot-mit_VISCOL/meshes/VIS_hollie_real.019.dae"/>
      </geometry>
    </visual>
    <collision>
      <origin xyz="-2.4736436898820102e-08 -1.6200681329792133e-07 -7.488844744329981e-07"/>
      <geometry>
        <mesh filename="model://arm_robot-mit_VISCOL/collisions/COL_hollie_real.019.dae"/>
      </geometry>
    </collision>
  </link>
  <link name="hollie_real.020">
    <inertial>
      <origin rpy="0 0 0" xyz="0 0 0"/>
      <mass value="1.0"/>
      <inertia ixx="1.0" ixy="0.0" ixz="0.0" iyy="1.0" iyz="0.0" izz="1.0"/>
    </inertial>
    <visual>
      <origin rpy="3.141592502593994 -2.3037349805576923e-08 -1.3783574104309082e-07" xyz="0.0006995258154347539 2.0023433933147317e-07 -0.010019376873970032"/>
      <geometry>
        <mesh filename="model://arm_robot-mit_VISCOL/meshes/VIS_hollie_real.020.dae"/>
      </geometry>
    </visual>
    <collision>
      <origin xyz="0.0006995258154347539 2.0023433933147317e-07 -0.010019376873970032"/>
      <geometry>
        <mesh filename="model://arm_robot-mit_VISCOL/collisions/COL_hollie_real.020.dae"/>
      </geometry>
    </collision>
  </link>
  <link name="hollie_real_left_hand_f5_link">
    <inertial>
      <origin rpy="0 0 0" xyz="0 0 0"/>
      <mass value="1.0"/>
      <inertia ixx="1.0" ixy="0.0" ixz="0.0" iyy="1.0" iyz="0.0" izz="1.0"/>
    </inertial>
  </link>
  <link name="hollie_real_left_hand_f6_link">
    <inertial>
      <origin rpy="0 0 0" xyz="0 0 0"/>
      <mass value="1.0"/>
      <inertia ixx="1.0" ixy="0.0" ixz="0.0" iyy="1.0" iyz="0.0" izz="1.0"/>
    </inertial>
  </link>
  <link name="hollie_real_left_hand_f7_link">
    <inertial>
      <origin rpy="0 0 0" xyz="0 0 0"/>
      <mass value="1.0"/>
      <inertia ixx="1.0" ixy="0.0" ixz="0.0" iyy="1.0" iyz="0.0" izz="1.0"/>
    </inertial>
  </link>
  <link name="hollie_real.021">
    <inertial>
      <origin rpy="0 0 0" xyz="0 0 0"/>
      <mass value="1.0"/>
      <inertia ixx="1.0" ixy="0.0" ixz="0.0" iyy="1.0" iyz="0.0" izz="1.0"/>
    </inertial>
    <visual>
      <origin rpy="0.3875390291213989 -5.188393288335647e-07 -1.6926823036556016e-06" xyz="-6.399376388799283e-07 -1.6936860447458457e-06 -0.01321012619882822"/>
      <geometry>
        <mesh filename="model://arm_robot-mit_VISCOL/meshes/VIS_hollie_real.021.dae"/>
      </geometry>
    </visual>
    <collision>
      <origin xyz="-6.399376388799283e-07 -1.6936860447458457e-06 -0.01321012619882822"/>
      <geometry>
        <mesh filename="model://arm_robot-mit_VISCOL/collisions/COL_hollie_real.021.dae"/>
      </geometry>
    </collision>
  </link>
  <link name="hollie_real.022">
    <inertial>
      <origin rpy="0 0 0" xyz="0 0 0"/>
      <mass value="1.0"/>
      <inertia ixx="1.0" ixy="0.0" ixz="0.0" iyy="1.0" iyz="0.0" izz="1.0"/>
    </inertial>
    <visual>
      <origin rpy="2.719462486311386e-07 9.371992604201296e-08 -1.3518211972041172e-07" xyz="6.632314466514799e-07 3.867476152663585e-07 1.8978691684878868e-07"/>
      <geometry>
        <mesh filename="model://arm_robot-mit_VISCOL/meshes/VIS_hollie_real.022.dae"/>
      </geometry>
    </visual>
    <collision>
      <origin xyz="6.632314466514799e-07 3.867476152663585e-07 1.8978691684878868e-07"/>
      <geometry>
        <mesh filename="model://arm_robot-mit_VISCOL/collisions/COL_hollie_real.022.dae"/>
      </geometry>
    </collision>
  </link>
  <link name="hollie_real.023">
    <inertial>
      <origin rpy="0 0 0" xyz="0 0 0"/>
      <mass value="1.0"/>
      <inertia ixx="1.0" ixy="0.0" ixz="0.0" iyy="1.0" iyz="0.0" izz="1.0"/>
    </inertial>
    <visual>
      <origin rpy="-4.470348358154297e-07 5.004722325452349e-08 -9.685036275186576e-07" xyz="-1.4826816823187983e-06 6.916850452398648e-07 1.9924523542158568e-07"/>
      <geometry>
        <mesh filename="model://arm_robot-mit_VISCOL/meshes/VIS_hollie_real.023.dae"/>
      </geometry>
    </visual>
    <collision>
      <origin xyz="-1.4826816823187983e-06 6.916850452398648e-07 1.9924523542158568e-07"/>
      <geometry>
        <mesh filename="model://arm_robot-mit_VISCOL/collisions/COL_hollie_real.023.dae"/>
      </geometry>
    </collision>
  </link>
  <link name="hollie_real.024">
    <inertial>
      <origin rpy="0 0 0" xyz="0 0 0"/>
      <mass value="1.0"/>
      <inertia ixx="1.0" ixy="0.0" ixz="0.0" iyy="1.0" iyz="0.0" izz="1.0"/>
    </inertial>
    <visual>
      <origin rpy="-3.0919909477233887e-07 8.12420068996289e-08 -3.7327390600694343e-07" xyz="-5.291554998620995e-07 -5.106496701046126e-07 5.226092980592512e-07"/>
      <geometry>
        <mesh filename="model://arm_robot-mit_VISCOL/meshes/VIS_hollie_real.024.dae"/>
      </geometry>
    </visual>
    <collision>
      <origin xyz="-5.291554998620995e-07 -5.106496701046126e-07 5.226092980592512e-07"/>
      <geometry>
        <mesh filename="model://arm_robot-mit_VISCOL/collisions/COL_hollie_real.024.dae"/>
      </geometry>
    </collision>
  </link>
  <link name="hollie_real_left_hand_f8_link">
    <inertial>
      <origin rpy="0 0 0" xyz="0 0 0"/>
      <mass value="1.0"/>
      <inertia ixx="1.0" ixy="0.0" ixz="0.0" iyy="1.0" iyz="0.0" izz="1.0"/>
    </inertial>
  </link>
  <link name="hollie_real.025">
    <inertial>
      <origin rpy="0 0 0" xyz="0 0 0"/>
      <mass value="1.0"/>
      <inertia ixx="1.0" ixy="0.0" ixz="0.0" iyy="1.0" iyz="0.0" izz="1.0"/>
    </inertial>
    <visual>
      <origin rpy="0.1913410872220993 -1.294845105803688e-06 -4.381991232094151e-07" xyz="-4.2705092795358723e-08 -5.413465373749204e-07 -0.013209964148700237"/>
      <geometry>
        <mesh filename="model://arm_robot-mit_VISCOL/meshes/VIS_hollie_real.025.dae"/>
      </geometry>
    </visual>
    <collision>
      <origin xyz="-4.2705092795358723e-08 -5.413465373749204e-07 -0.013209964148700237"/>
      <geometry>
        <mesh filename="model://arm_robot-mit_VISCOL/collisions/COL_hollie_real.025.dae"/>
      </geometry>
    </collision>
  </link>
  <link name="hollie_real.026">
    <inertial>
      <origin rpy="0 0 0" xyz="0 0 0"/>
      <mass value="1.0"/>
      <inertia ixx="1.0" ixy="0.0" ixz="0.0" iyy="1.0" iyz="0.0" izz="1.0"/>
    </inertial>
    <visual>
      <origin rpy="-0.05260714516043663 6.876398828126185e-08 -6.11365749136894e-07" xyz="-7.664125405426603e-07 4.999449174647452e-07 -6.275574833125575e-07"/>
      <geometry>
        <mesh filename="model://arm_robot-mit_VISCOL/meshes/VIS_hollie_real.026.dae"/>
      </geometry>
    </visual>
    <collision>
      <origin xyz="-7.664125405426603e-07 4.999449174647452e-07 -6.275574833125575e-07"/>
      <geometry>
        <mesh filename="model://arm_robot-mit_VISCOL/collisions/COL_hollie_real.026.dae"/>
      </geometry>
    </collision>
  </link>
  <link name="hollie_real.027">
    <inertial>
      <origin rpy="0 0 0" xyz="0 0 0"/>
      <mass value="1.0"/>
      <inertia ixx="1.0" ixy="0.0" ixz="0.0" iyy="1.0" iyz="0.0" izz="1.0"/>
    </inertial>
    <visual>
      <origin rpy="-3.1664964694755326e-07 9.995868310852529e-08 -1.6136306513203635e-08" xyz="-2.8972232257729047e-07 8.259053174697328e-08 -4.6175784973456757e-07"/>
      <geometry>
        <mesh filename="model://arm_robot-mit_VISCOL/meshes/VIS_hollie_real.027.dae"/>
      </geometry>
    </visual>
    <collision>
      <origin xyz="-2.8972232257729047e-07 8.259053174697328e-08 -4.6175784973456757e-07"/>
      <geometry>
        <mesh filename="model://arm_robot-mit_VISCOL/collisions/COL_hollie_real.027.dae"/>
      </geometry>
    </collision>
  </link>
  <link name="hollie_real_lef">
    <inertial>
      <origin rpy="0 0 0" xyz="0 0 0"/>
      <mass value="1.0"/>
      <inertia ixx="1.0" ixy="0.0" ixz="0.0" iyy="1.0" iyz="0.0" izz="1.0"/>
    </inertial>
    <visual>
      <origin rpy="0.02001788653433323 8.748081370413274e-08 -2.5422815497222473e-07" xyz="9.022235190059291e-07 -4.653043106372934e-08 -2.1286152218635834e-07"/>
      <geometry>
        <mesh filename="model://arm_robot-mit_VISCOL/meshes/VIS_hollie_real_lef.dae"/>
      </geometry>
    </visual>
    <collision>
      <origin xyz="9.022235190059291e-07 -4.653043106372934e-08 -2.1286152218635834e-07"/>
      <geometry>
        <mesh filename="model://arm_robot-mit_VISCOL/collisions/COL_hollie_real_lef.dae"/>
      </geometry>
    </collision>
  </link>
  <gazebo>
    <plugin filename="libgeneric_controller_plugin.so" name="generic_controller">
      <controller joint_name="hollie_real_base_x_joint">
        <type>position</type>
        <pid>1.0 1.0 1.0</pid>
      </controller>
      <controller joint_name="hollie_real_left_arm_0_joint">
        <type>position</type>
        <pid>1.0 1.0 1.0</pid>
      </controller>
      <controller joint_name="hollie_real_left_arm_1_joint">
        <type>position</type>
        <pid>1.0 1.0 1.0</pid>
      </controller>
      <controller joint_name="hollie_real_left_arm_2_joint">
        <type>position</type>
        <pid>1.0 1.0 1.0</pid>
      </controller>
      <controller joint_name="hollie_real_left_arm_3_joint">
        <type>position</type>
        <pid>1.0 1.0 1.0</pid>
      </controller>
      <controller joint_name="hollie_real_left_arm_4_joint">
        <type>position</type>
        <pid>1.0 1.0 1.0</pid>
      </controller>
      <controller joint_name="hollie_real_left_arm_5_joint">
        <type>position</type>
        <pid>1.0 1.0 1.0</pid>
      </controller>
      <controller joint_name="hollie_real_left_arm_6_joint">
        <type>position</type>
        <pid>1.0 1.0 1.0</pid>
      </controller>
      <controller joint_name="hollie_real_left_hand_base_joint">
        <type>position</type>
        <pid>1.0 1.0 1.0</pid>
      </controller>
      <controller joint_name="hollie_real_left_hand_f4">
        <type>position</type>
        <pid>1.0 1.0 1.0</pid>
      </controller>
      <controller joint_name="hollie_real_left_hand_Thumb_Opposition">
        <type>position</type>
        <pid>1.0 1.0 1.0</pid>
      </controller>
      <controller joint_name="hollie_real_left_hand_Thumb_Helper">
        <type>position</type>
        <pid>1.0 1.0 1.0</pid>
      </controller>
      <controller joint_name="hollie_real_left_hand_Thumb_Flexion">
        <type>position</type>
        <pid>1.0 1.0 1.0</pid>
      </controller>
      <controller joint_name="hollie_real_left_hand_j3">
        <type>position</type>
        <pid>1.0 1.0 1.0</pid>
      </controller>
      <controller joint_name="hollie_real_left_hand_j4">
        <type>position</type>
        <pid>1.0 1.0 1.0</pid>
      </controller>
      <controller joint_name="hollie_real_left_hand_f1">
        <type>position</type>
        <pid>1.0 1.0 1.0</pid>
      </controller>
      <controller joint_name="hollie_real_left_hand_f2">
        <type>position</type>
        <pid>1.0 1.0 1.0</pid>
      </controller>
      <controller joint_name="hollie_real_left_hand_f3">
        <type>position</type>
        <pid>1.0 1.0 1.0</pid>
      </controller>
      <controller joint_name="hollie_real_left_hand_index_spread">
        <type>position</type>
        <pid>1.0 1.0 1.0</pid>
      </controller>
      <controller joint_name="hollie_real_left_hand_Index_Finger_Proximal">
        <type>position</type>
        <pid>1.0 1.0 1.0</pid>
      </controller>
      <controller joint_name="hollie_real_left_hand_Index_Finger_Distal">
        <type>position</type>
        <pid>1.0 1.0 1.0</pid>
      </controller>
      <controller joint_name="hollie_real_left_hand_j14">
        <type>position</type>
        <pid>1.0 1.0 1.0</pid>
      </controller>
      <controller joint_name="hollie_real_left_hand_middle_spread_dummy">
        <type>position</type>
        <pid>1.0 1.0 1.0</pid>
      </controller>
      <controller joint_name="hollie_real_left_hand_Middle_Finger_Proximal">
        <type>position</type>
        <pid>1.0 1.0 1.0</pid>
      </controller>
      <controller joint_name="hollie_real_left_hand_Middle_Finger_Distal">
        <type>position</type>
        <pid>1.0 1.0 1.0</pid>
      </controller>
      <controller joint_name="hollie_real_left_hand_j15">
        <type>position</type>
        <pid>1.0 1.0 1.0</pid>
      </controller>
      <controller joint_name="hollie_real_left_hand_j5">
        <type>position</type>
        <pid>1.0 1.0 1.0</pid>
      </controller>
      <controller joint_name="hollie_real_left_hand_f5">
        <type>position</type>
        <pid>1.0 1.0 1.0</pid>
      </controller>
      <controller joint_name="hollie_real_left_hand_f6">
        <type>position</type>
        <pid>1.0 1.0 1.0</pid>
      </controller>
      <controller joint_name="hollie_real_left_hand_f7">
        <type>position</type>
        <pid>1.0 1.0 1.0</pid>
      </controller>
      <controller joint_name="hollie_real_left_hand_Finger_Spread">
        <type>position</type>
        <pid>1.0 1.0 1.0</pid>
      </controller>
      <controller joint_name="hollie_real_left_hand_Pinky">
        <type>position</type>
        <pid>1.0 1.0 1.0</pid>
      </controller>
      <controller joint_name="hollie_real_left_hand_j13">
        <type>position</type>
        <pid>1.0 1.0 1.0</pid>
      </controller>
      <controller joint_name="hollie_real_left_hand_j17">
        <type>position</type>
        <pid>1.0 1.0 1.0</pid>
      </controller>
      <controller joint_name="hollie_real_left_hand_f8">
        <type>position</type>
        <pid>1.0 1.0 1.0</pid>
      </controller>
      <controller joint_name="hollie_real_left_hand_ring_spread">
        <type>position</type>
        <pid>1.0 1.0 1.0</pid>
      </controller>
      <controller joint_name="hollie_real_left_hand_Ring_Finger">
        <type>position</type>
        <pid>1.0 1.0 1.0</pid>
      </controller>
      <controller joint_name="hollie_real_left_hand_j12">
        <type>position</type>
        <pid>1.0 1.0 1.0</pid>
      </controller>
      <controller joint_name="hollie_real_left_hand_j16">
        <type>position</type>
        <pid>1.0 1.0 1.0</pid>
      </controller>
    </plugin>
  </gazebo>
</robot>
